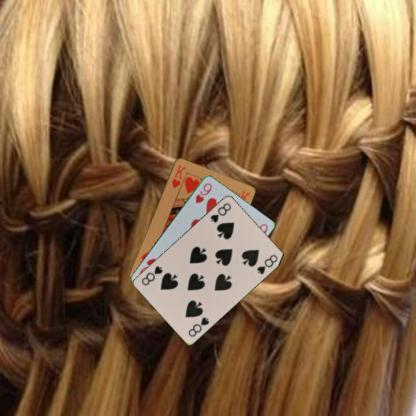8s: (208, 200, 232, 224), (186, 314, 210, 337)
9h: (192, 180, 214, 205)
Kh: (169, 162, 187, 189)
